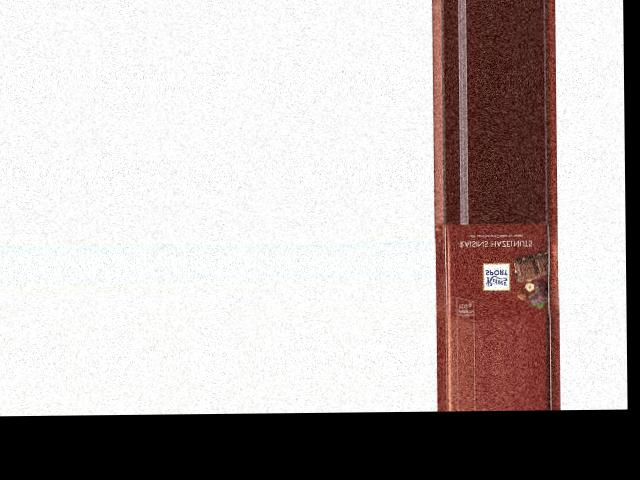chocolate: (434, 222, 561, 320)
